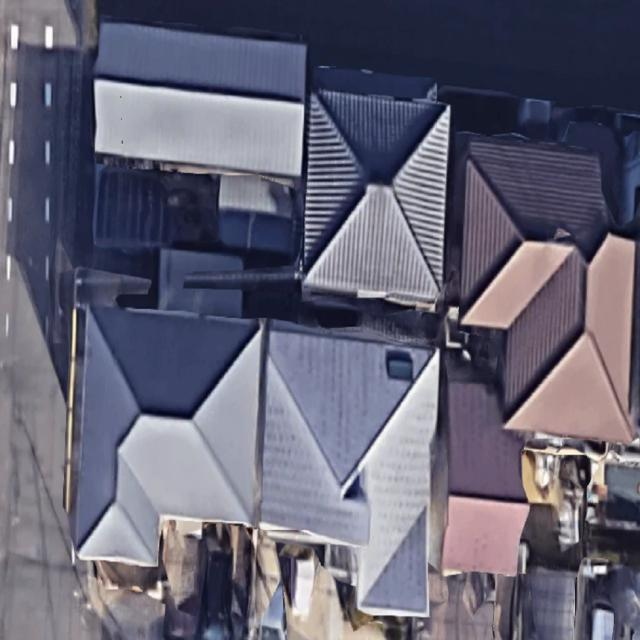Batiment: (460, 137, 636, 444), (260, 321, 439, 614), (70, 308, 261, 564), (304, 71, 450, 309), (94, 22, 306, 178), (441, 353, 529, 576)
